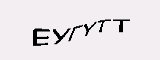Г: (68, 20, 82, 45)
Е: (30, 24, 51, 49)
Т: (112, 16, 130, 34), (97, 17, 110, 33)
У: (51, 23, 69, 46)
Ү: (82, 19, 98, 40)
